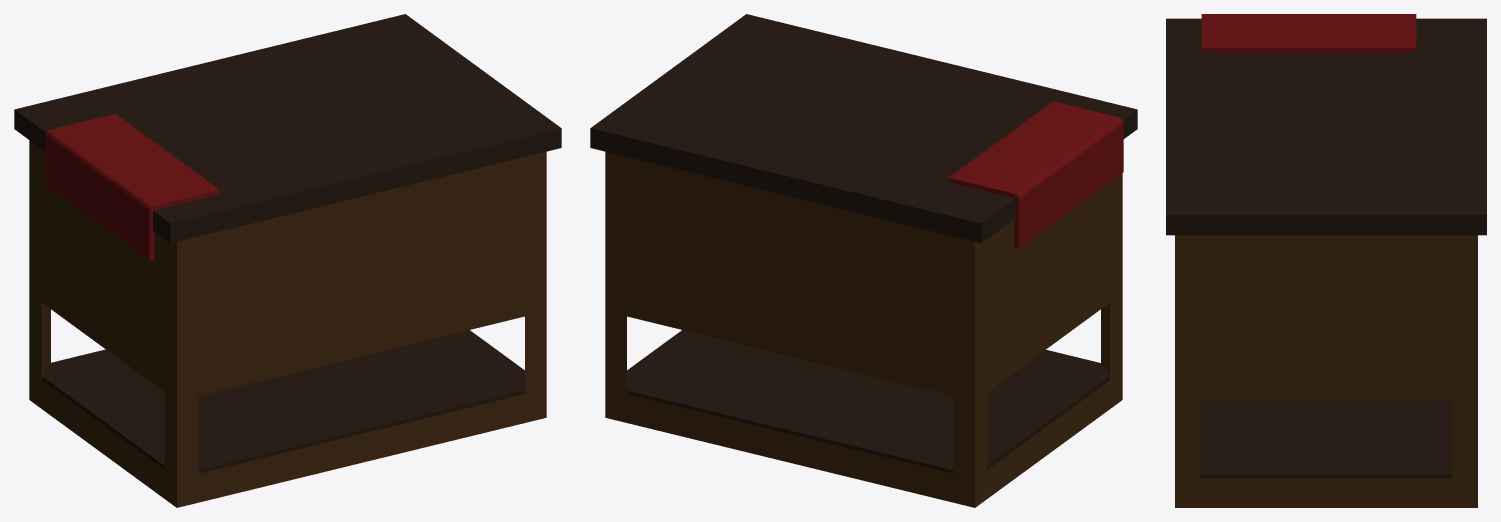
Rendered from MesaTaller.fbx.
The picture shows the model from 3 angles, left to right: view 1: azimuth 30°, elevation 25°; view 2: azimuth 150°, elevation 25°; view 3: azimuth 270°, elevation 25°; orthographic projection. The views are drawn at different scales.
Parts seen in each view (by area): view 1: MesaTaller, TablaMesa; view 2: MesaTaller, TablaMesa; view 3: MesaTaller, TablaMesa.
Boxes of the visible parts, x1,y1,x2,y2 form: MesaTaller: (14, 14, 561, 507); TablaMesa: (45, 113, 219, 260); MesaTaller: (590, 14, 1137, 507); TablaMesa: (949, 101, 1123, 248); MesaTaller: (1166, 18, 1486, 507); TablaMesa: (1201, 14, 1416, 52).
Size of the model in its own units: 167 by 119 by 115.
